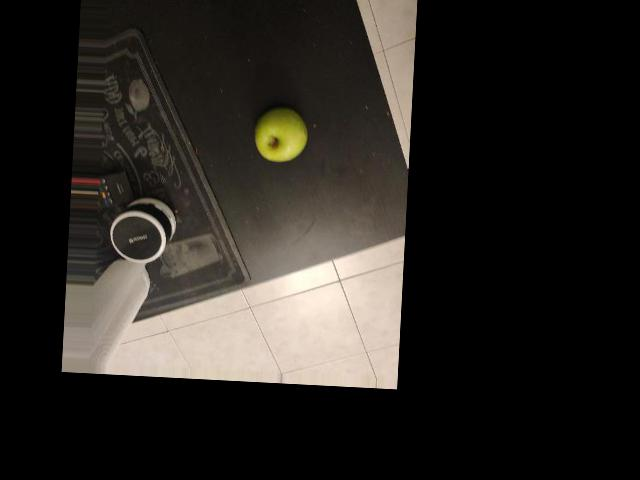apple: (243, 88, 314, 177)
